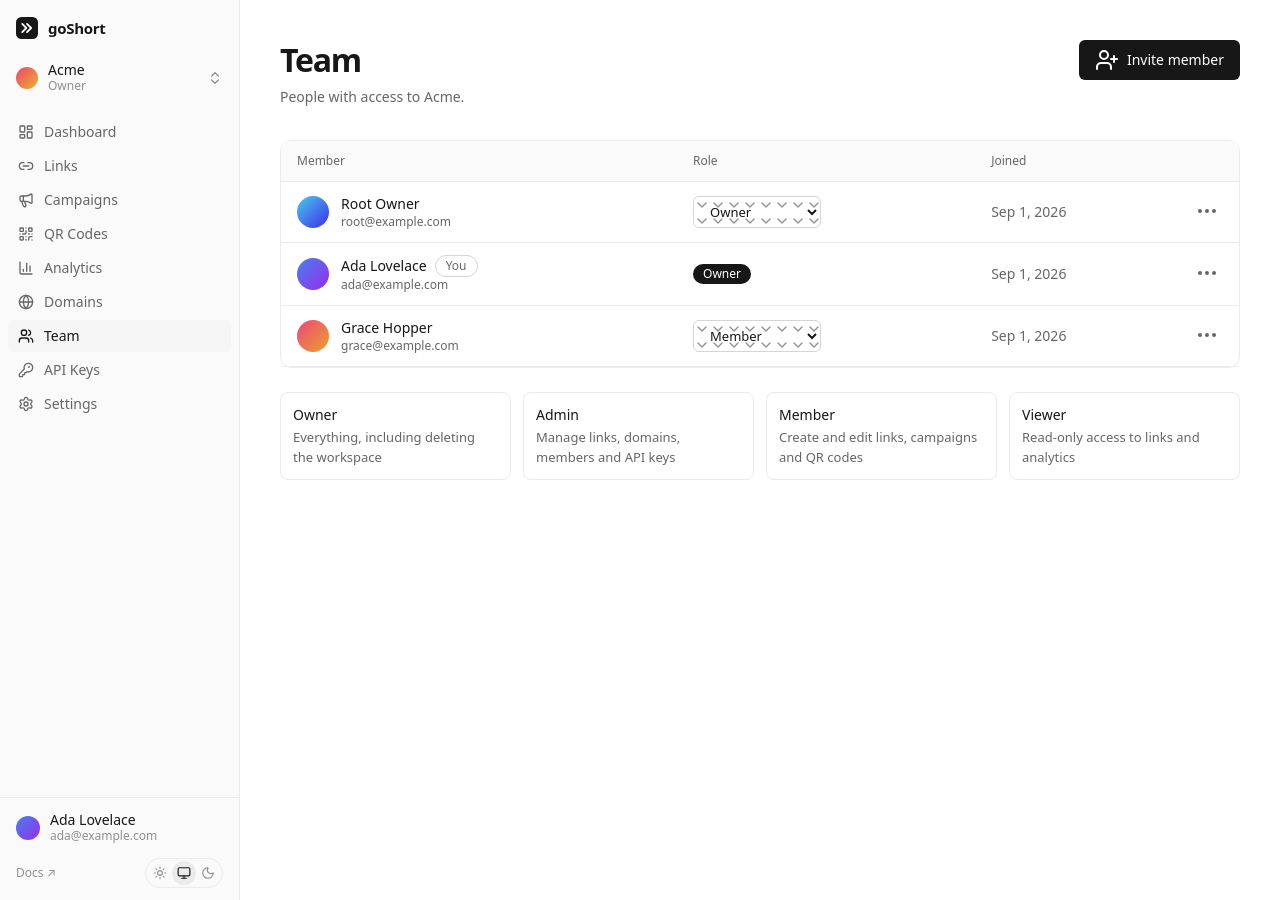
Scenario: team › invites by email with a role and surfaces server field errors
Click the button "Invite member": (1159, 60) [1079,40,1240,80]
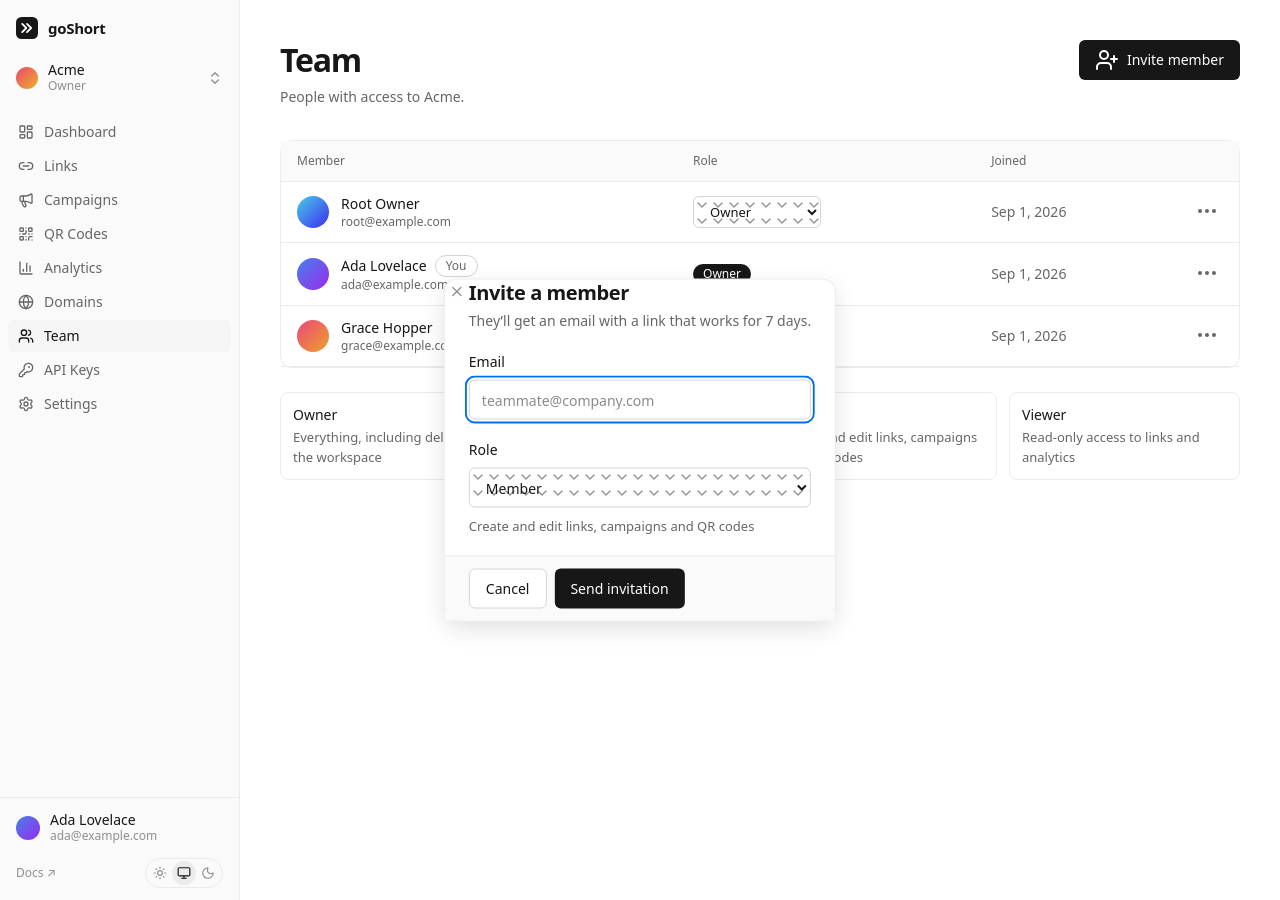
In the field labelled "Email": (640, 400) [469,380,811,420], type "new@example.com"
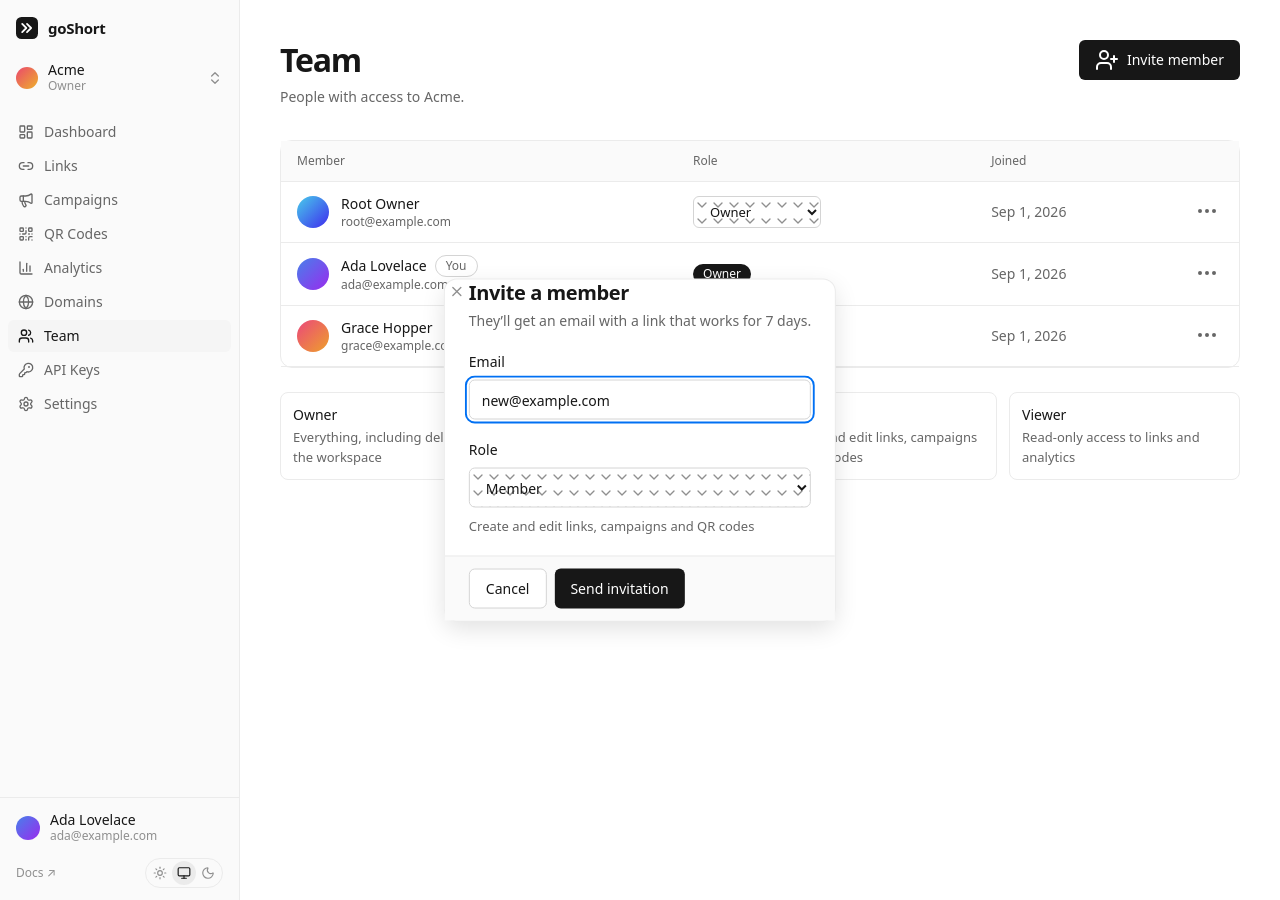
Select "Viewer" in the dropdown labelled "Role": (640, 488) [469,468,811,508]
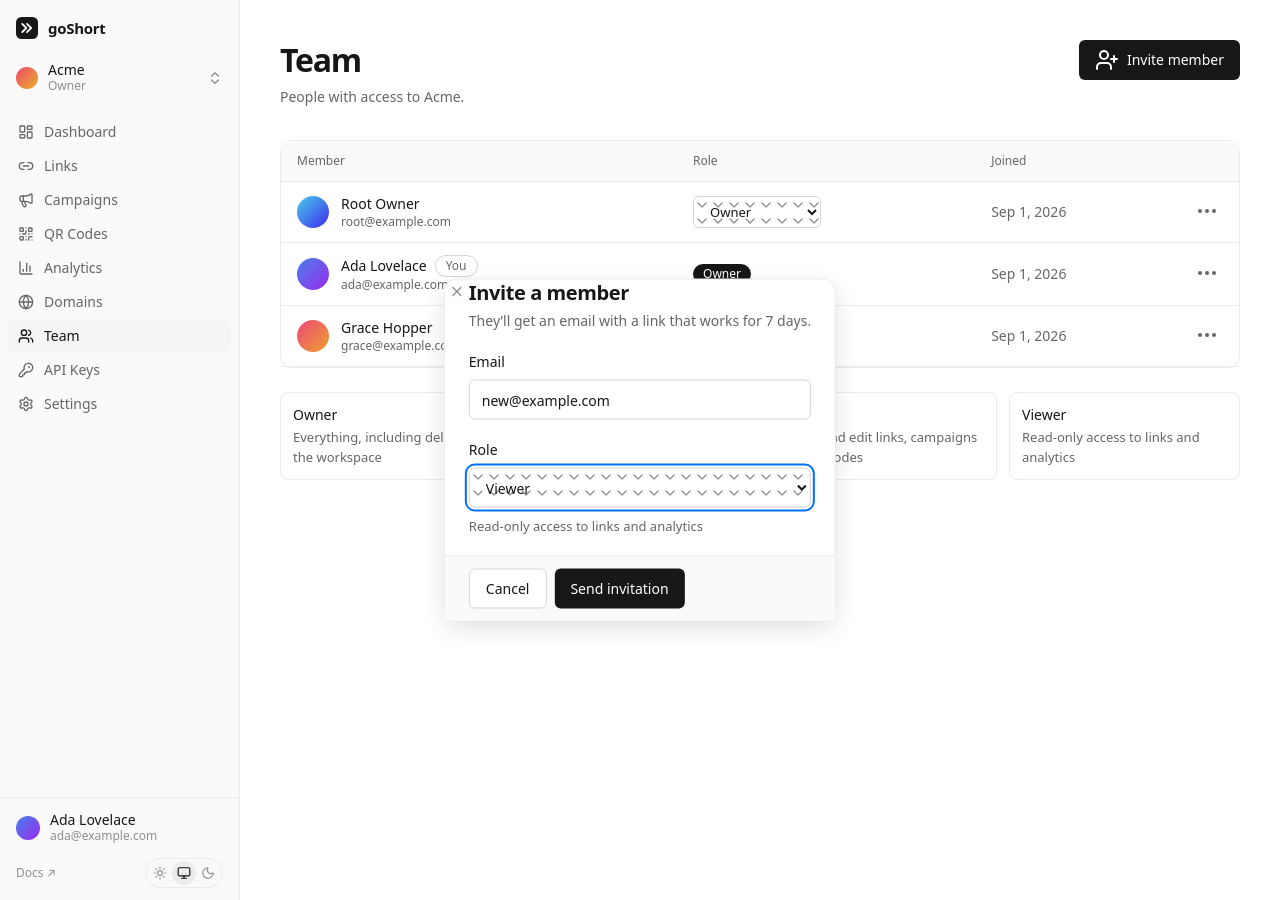
Click the button "Send invitation": (620, 588) [554,568,685,608]
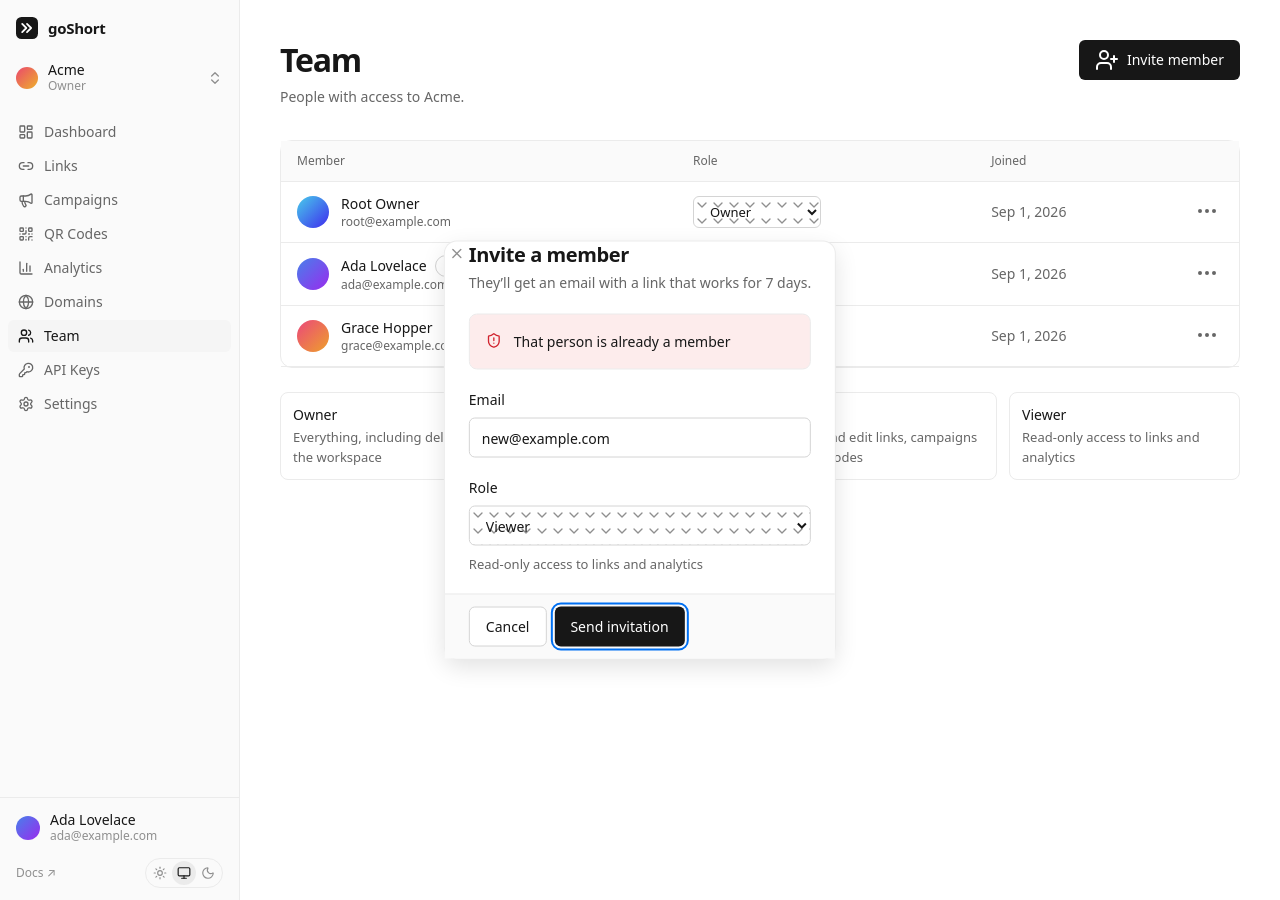
expect the text "That person is already a member" is shown: met, box [514,330,730,352]
Click the button "Send invitation": (620, 626) [554,606,685,646]
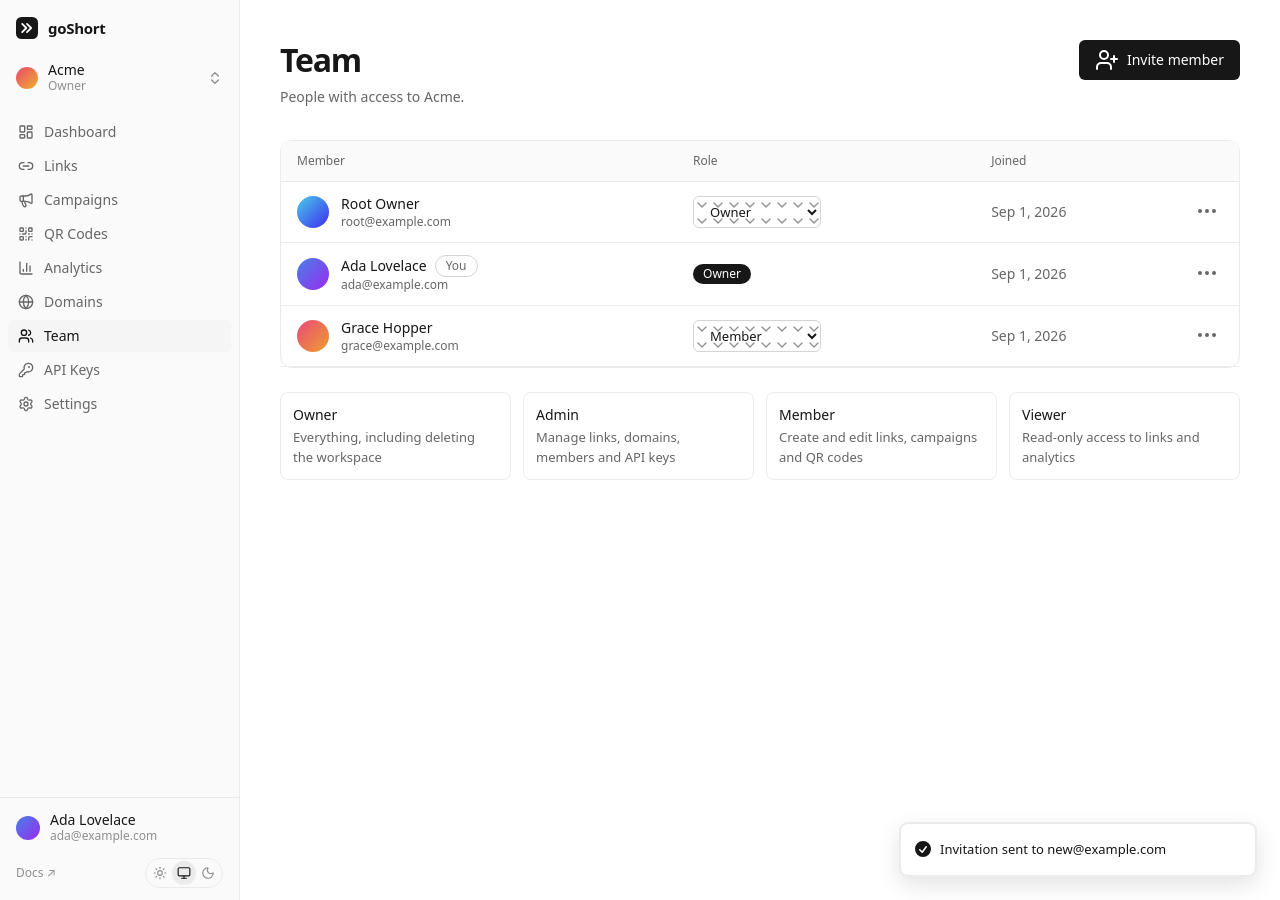
expect the dialog is gone: met
